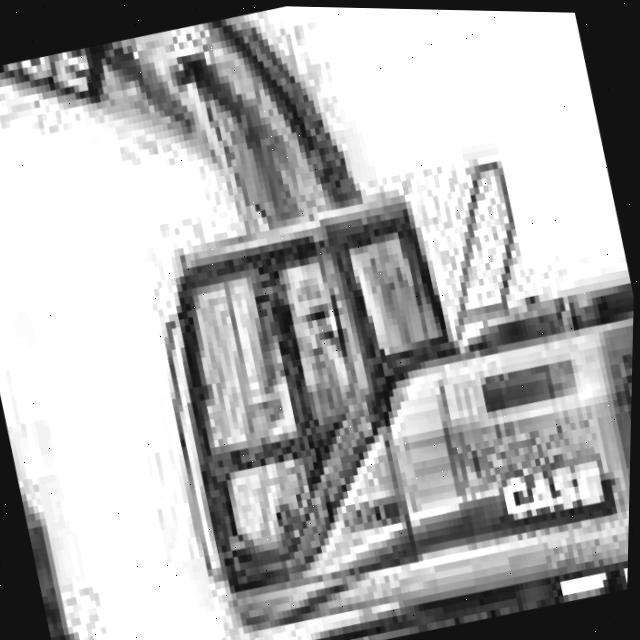excavator: (43, 114, 638, 640)
